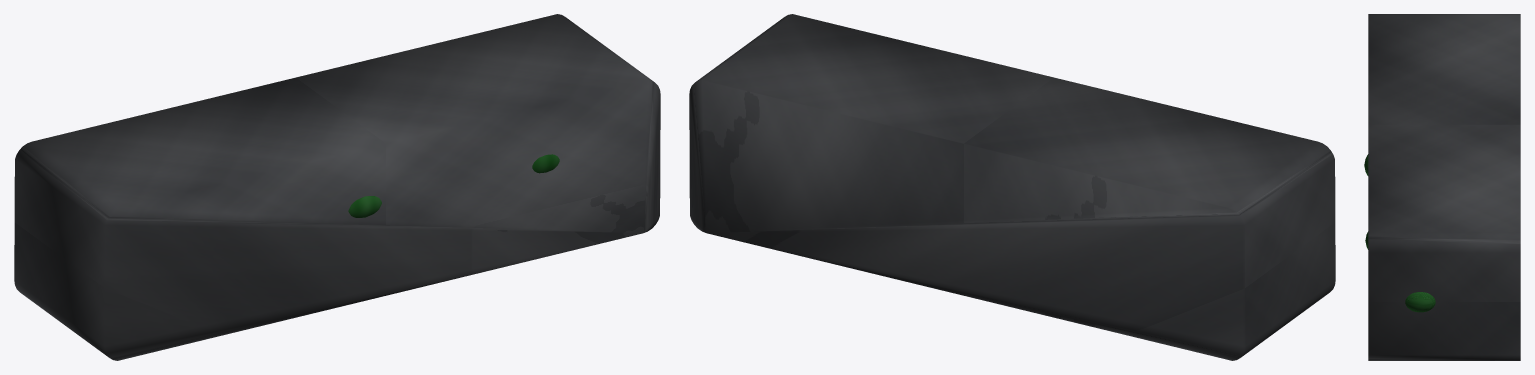
File: ARCH_PLANTER_DIVIDER_001.glb
3 views of the same model, side by side, from view 1: azimuth 30°, elevation 25°; view 2: azimuth 150°, elevation 25°; view 3: azimuth 270°, elevation 25° (orthographic). The views are drawn at different scales.
Visible parts, largest first — view 1: planter_box_000, planter_plant_006; view 2: planter_box_000; view 3: planter_box_000, planter_plant_012.
Boxes of the visible parts, <box> form: planter_box_000: <box>14,14,660,360</box>; planter_plant_006: <box>348,196,381,217</box>; planter_box_000: <box>689,14,1335,360</box>; planter_box_000: <box>1368,14,1520,360</box>; planter_plant_012: <box>1405,292,1435,312</box>.
Size of the model in its own units: 1.62 by 0.42 by 0.4616.
2 materials, 2 textured.
